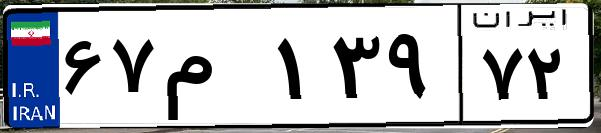1: (270, 28, 330, 110)
2: (525, 38, 570, 115)
3: (330, 28, 385, 110)
6: (57, 26, 110, 100)
7: (475, 38, 525, 113), (110, 28, 158, 98)
9: (385, 28, 445, 110)
م: (158, 20, 270, 120)
